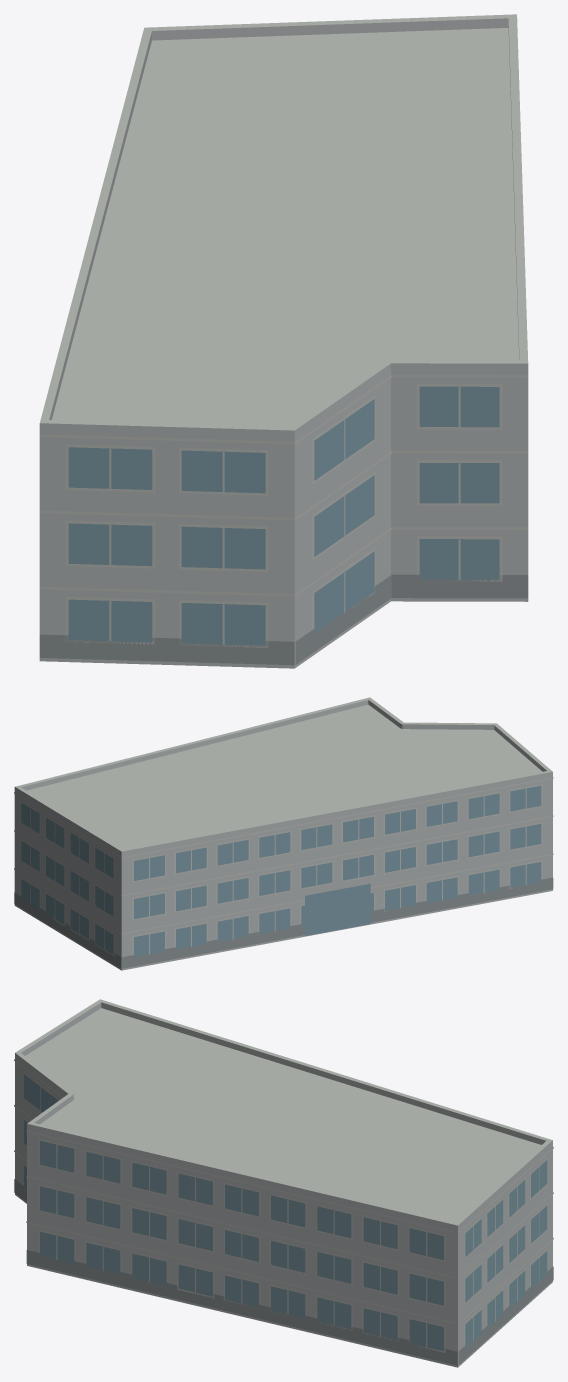
File: public-c32182af-d7bf-4c53-82b1-fa18c3ff245a.glb
3 renders of one model, top to bottom at view 1: azimuth 30°, elevation 25°; view 2: azimuth 150°, elevation 25°; view 3: azimuth 270°, elevation 25°, orthographic. The views are drawn at different scales.
Parts seen in each view (by area): view 1: public-c32182af-d7bf-4c53-82b1-fa18c3ff245a; view 2: public-c32182af-d7bf-4c53-82b1-fa18c3ff245a; view 3: public-c32182af-d7bf-4c53-82b1-fa18c3ff245a.
Boxes of the visible parts, <box> form: public-c32182af-d7bf-4c53-82b1-fa18c3ff245a: <box>39,14,528,668</box>; public-c32182af-d7bf-4c53-82b1-fa18c3ff245a: <box>14,697,553,970</box>; public-c32182af-d7bf-4c53-82b1-fa18c3ff245a: <box>14,999,553,1367</box>.
Bounding box in the file's own units: 31.37 × 9.15 × 31.51.
